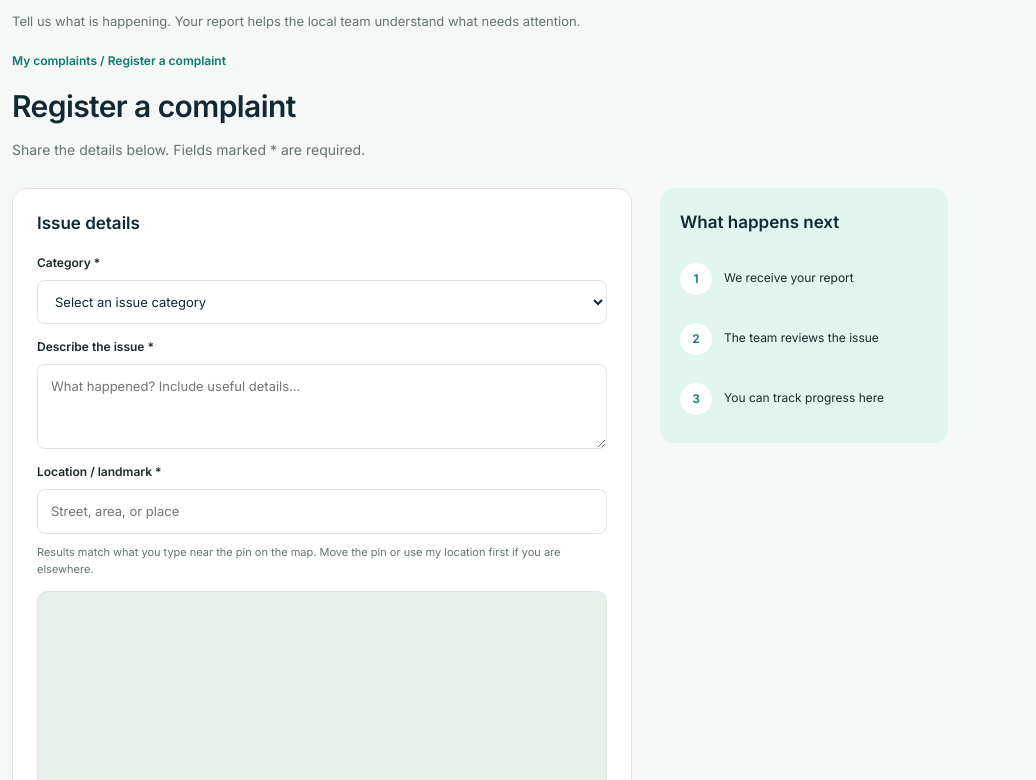
Scenario: complaint form searches places as the location is typed
Type "Marina" into the field with placeholder "Street, area, or place" at (322, 511), box [37,488,607,534]
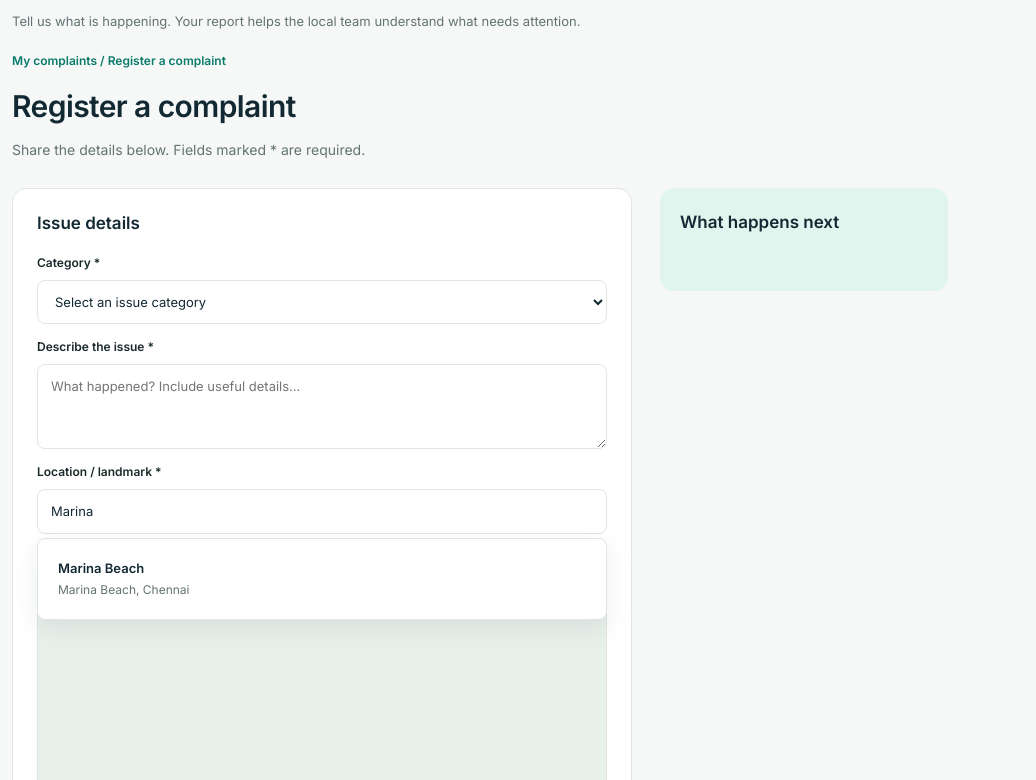
Click the button "Marina Beach Marina Beach, Chennai" at (101, 568), box [50,551,594,606]
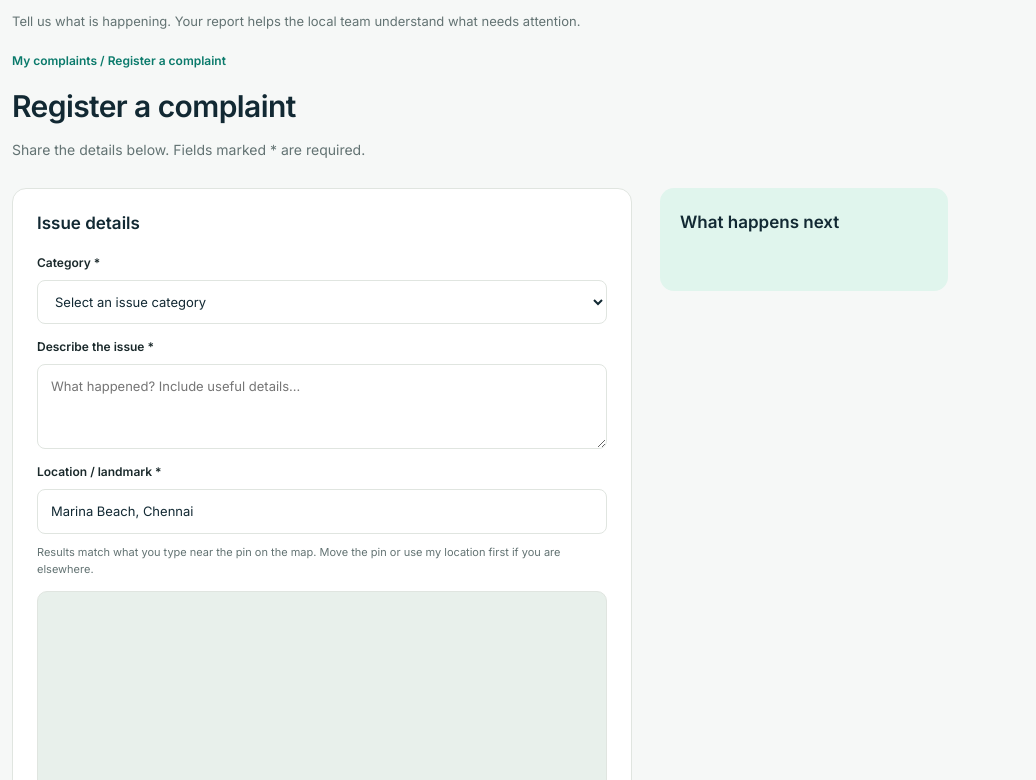
expect the field with placeholder "Street, area, or place" holds "Marina Beach, Chennai": met, box [37,488,607,534]
